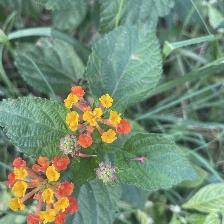common lanthana: (61, 85, 125, 154)
